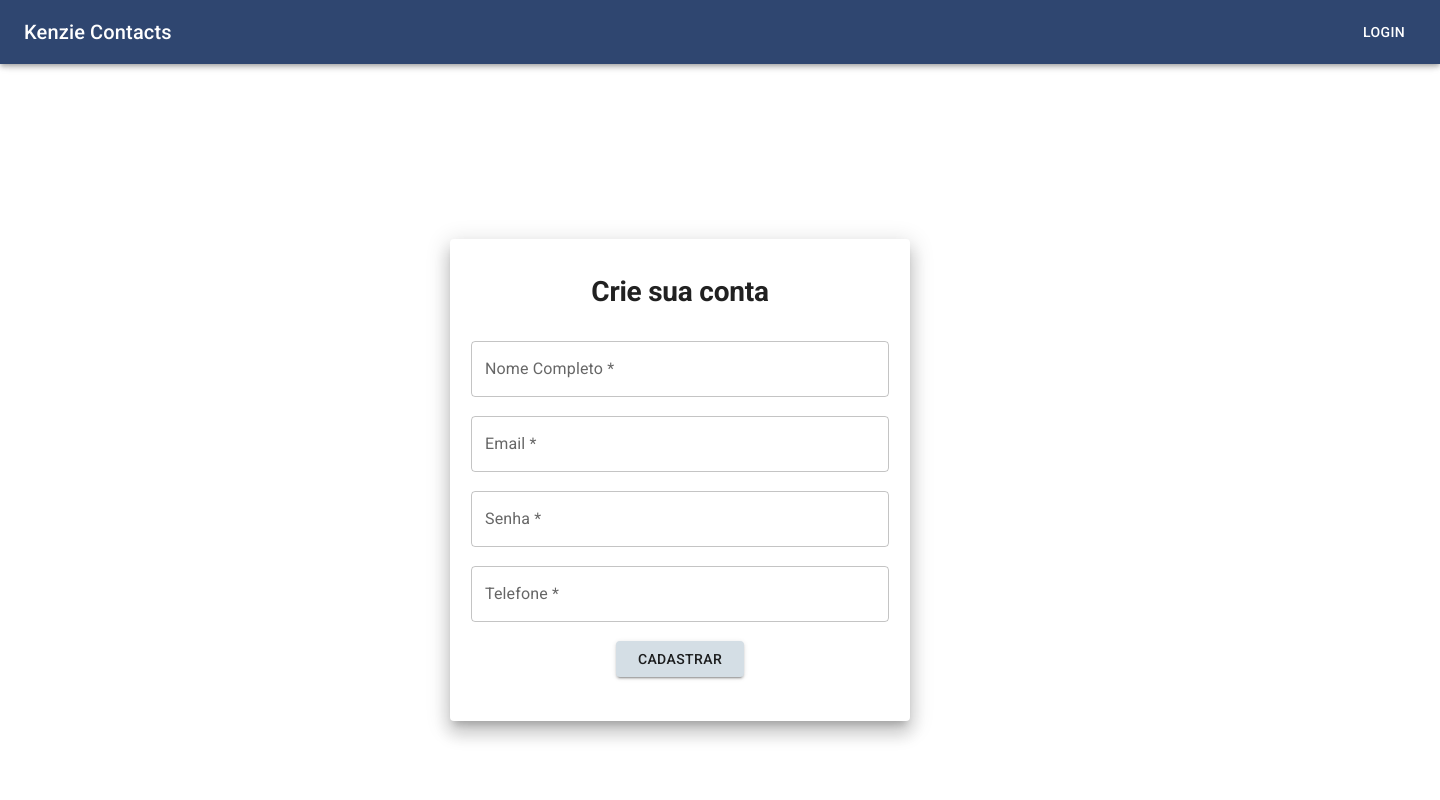
Test case: Client › Tries to register with an invalid email
Type "Teste" into the field with id "name".
click(680, 369); type("Teste")  # box [471,341,889,397]
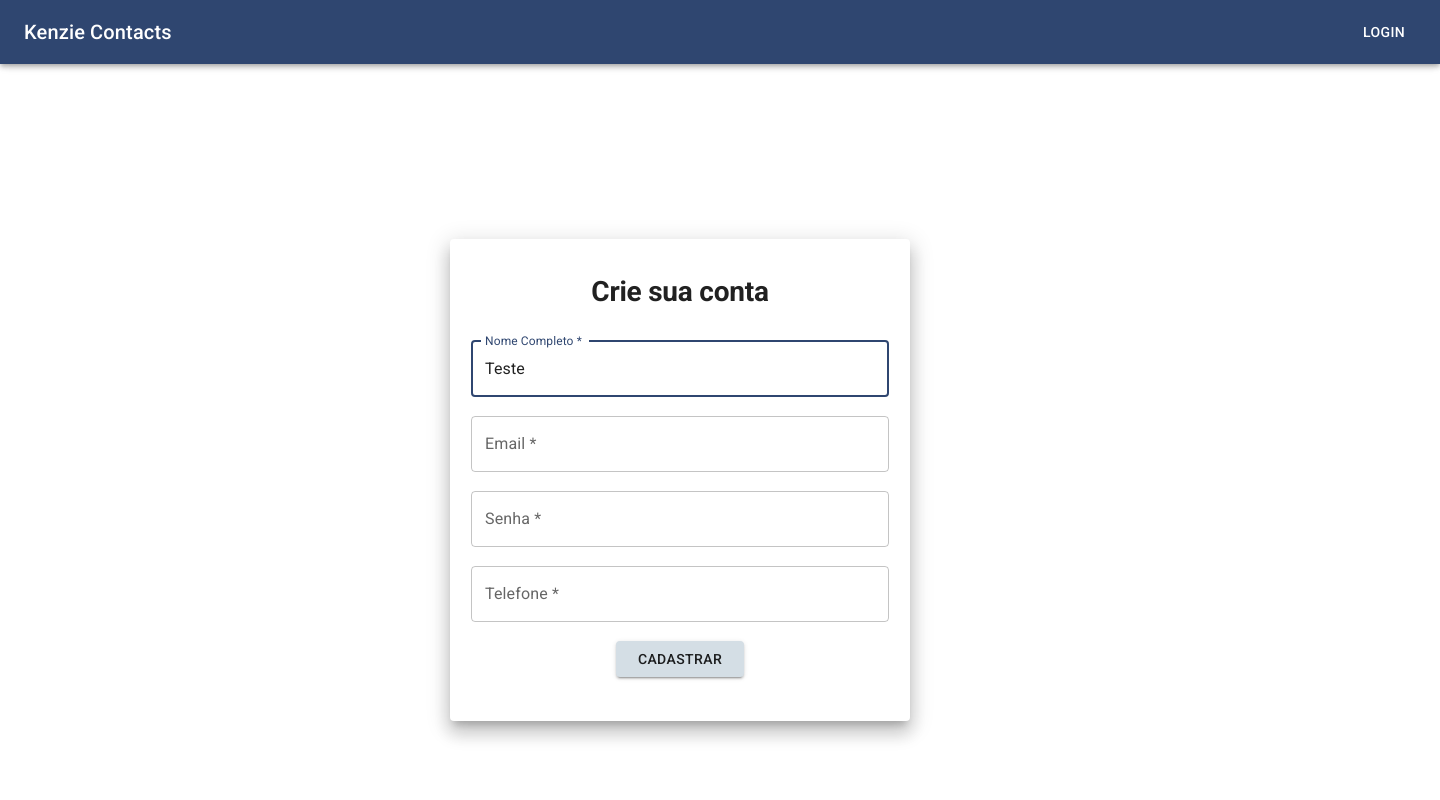
Type "teste" into the field with id "email".
click(680, 444); type("teste")  # box [471,416,889,472]
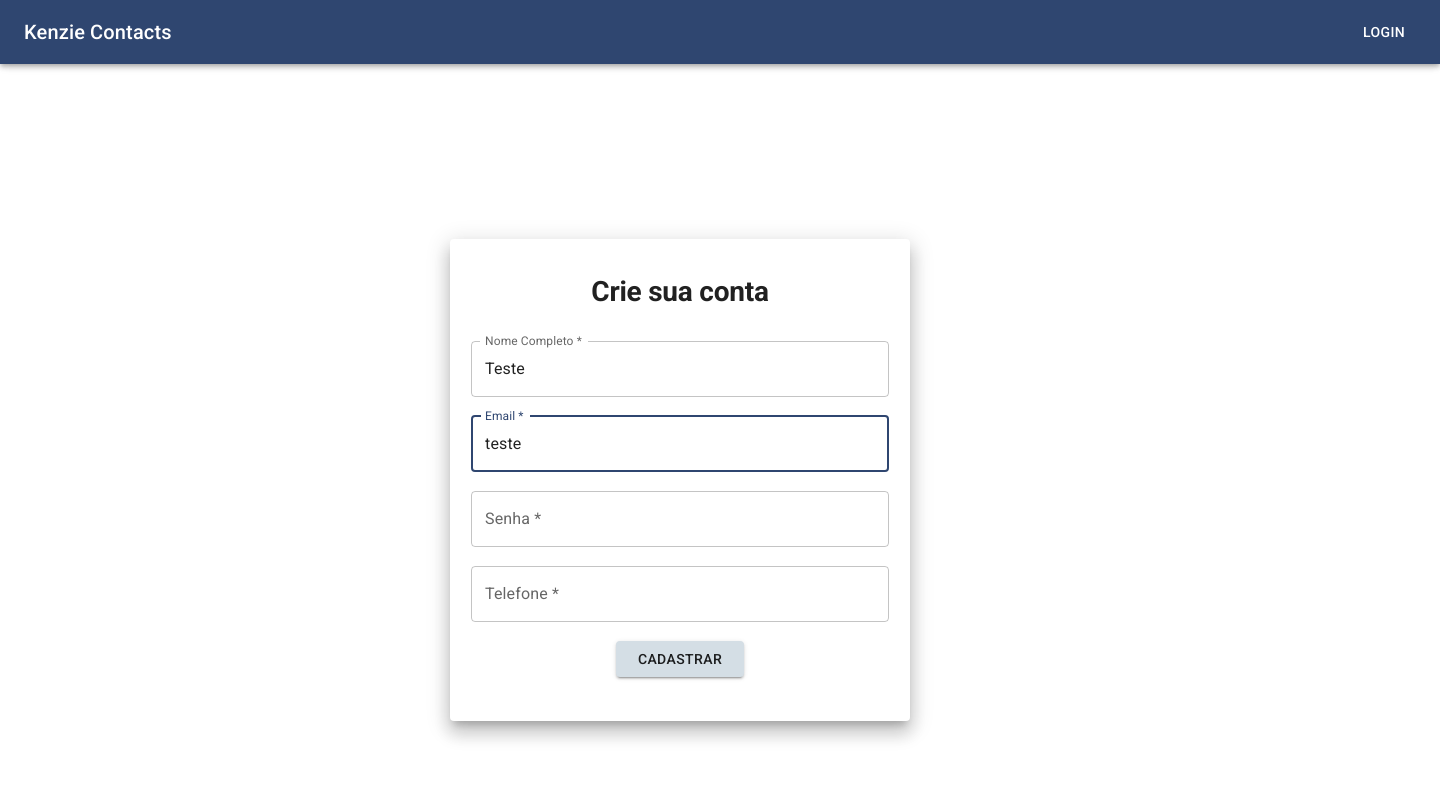
Type "1234" into the password field labelled "Senha *".
click(680, 519); type("1234")  # box [471,491,889,547]
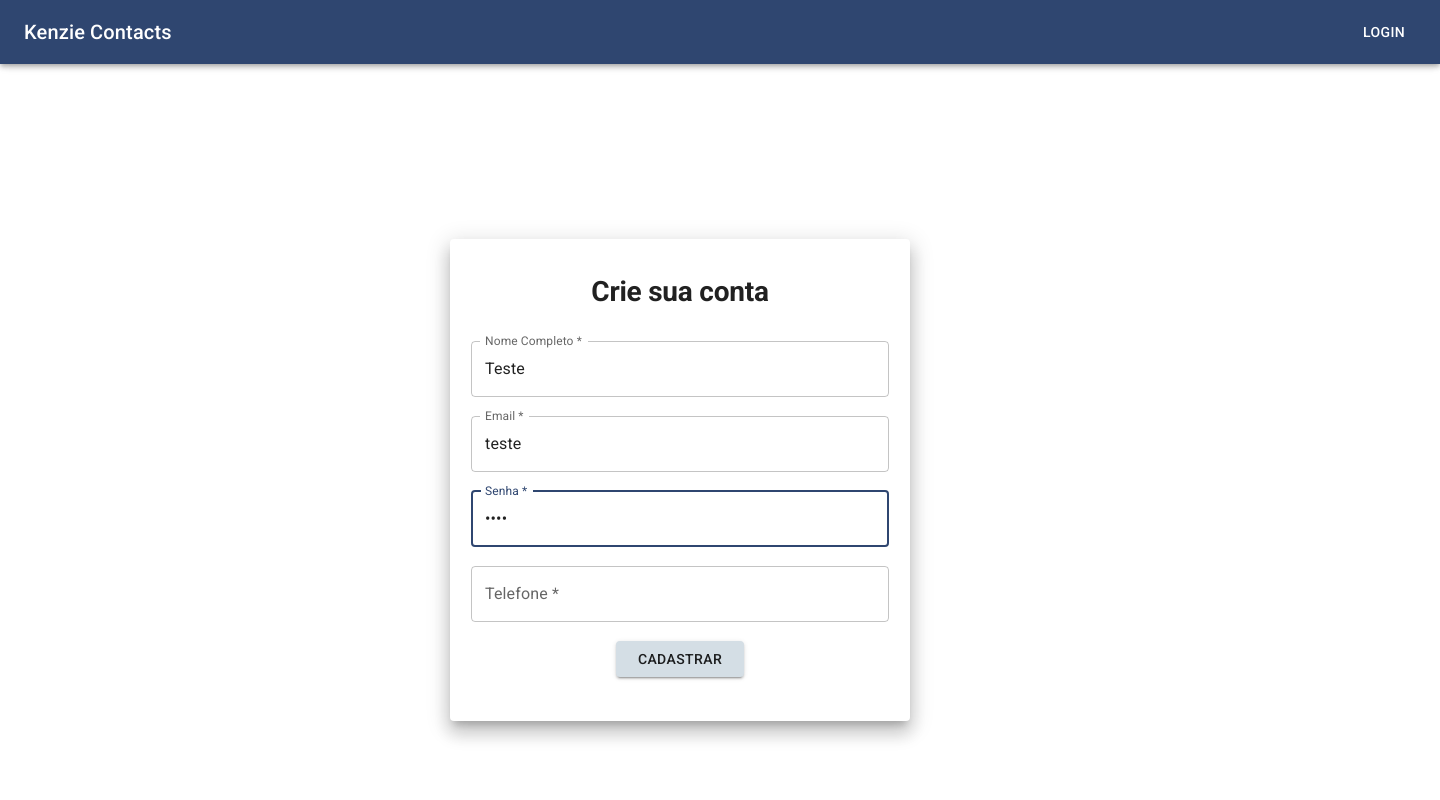
Type "(00) 1111-1111" into the field labelled "Telefone *".
click(680, 594); type("(00) 1111-1111")  # box [471,566,889,622]
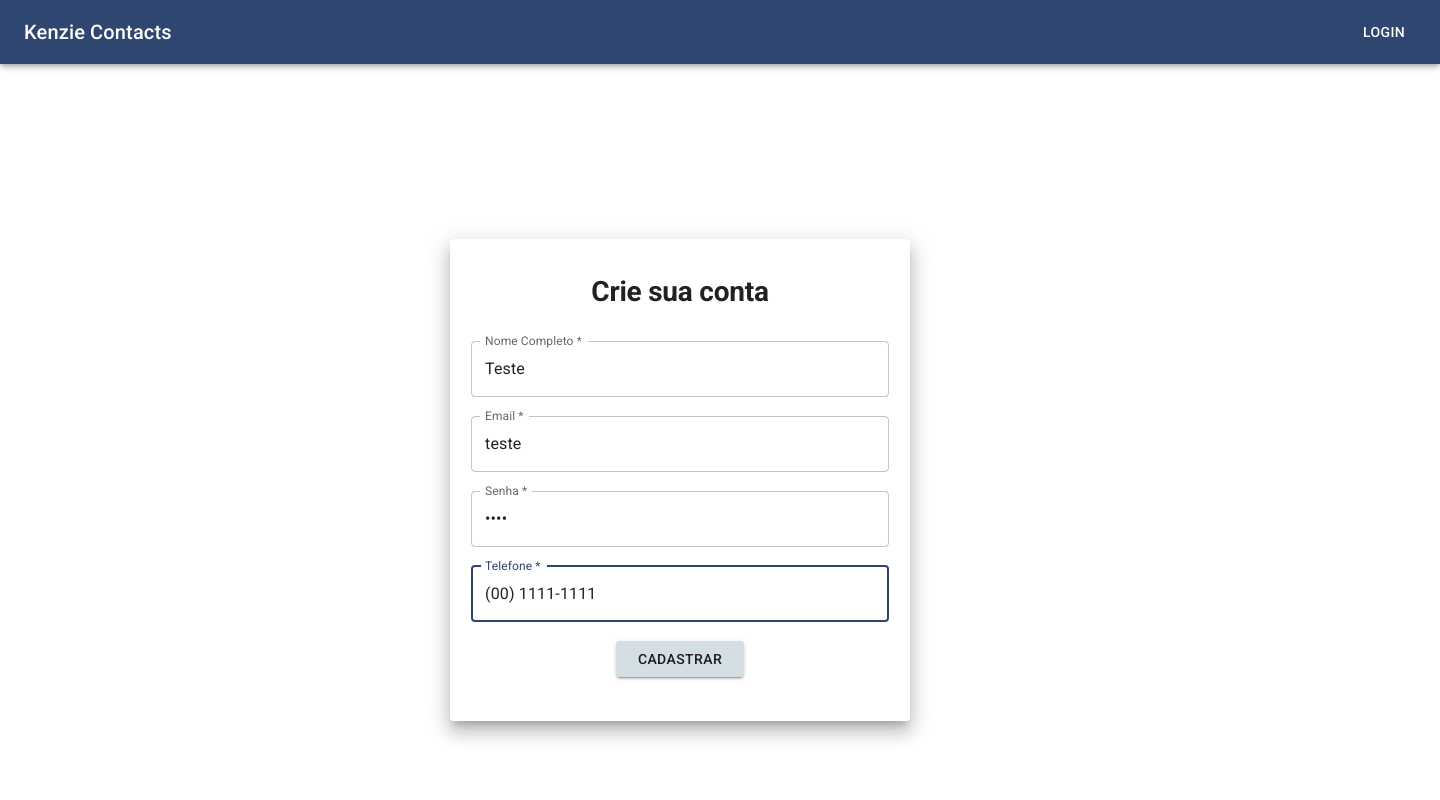
Click the button "Cadastrar".
click(681, 660)  # box [616,641,745,678]
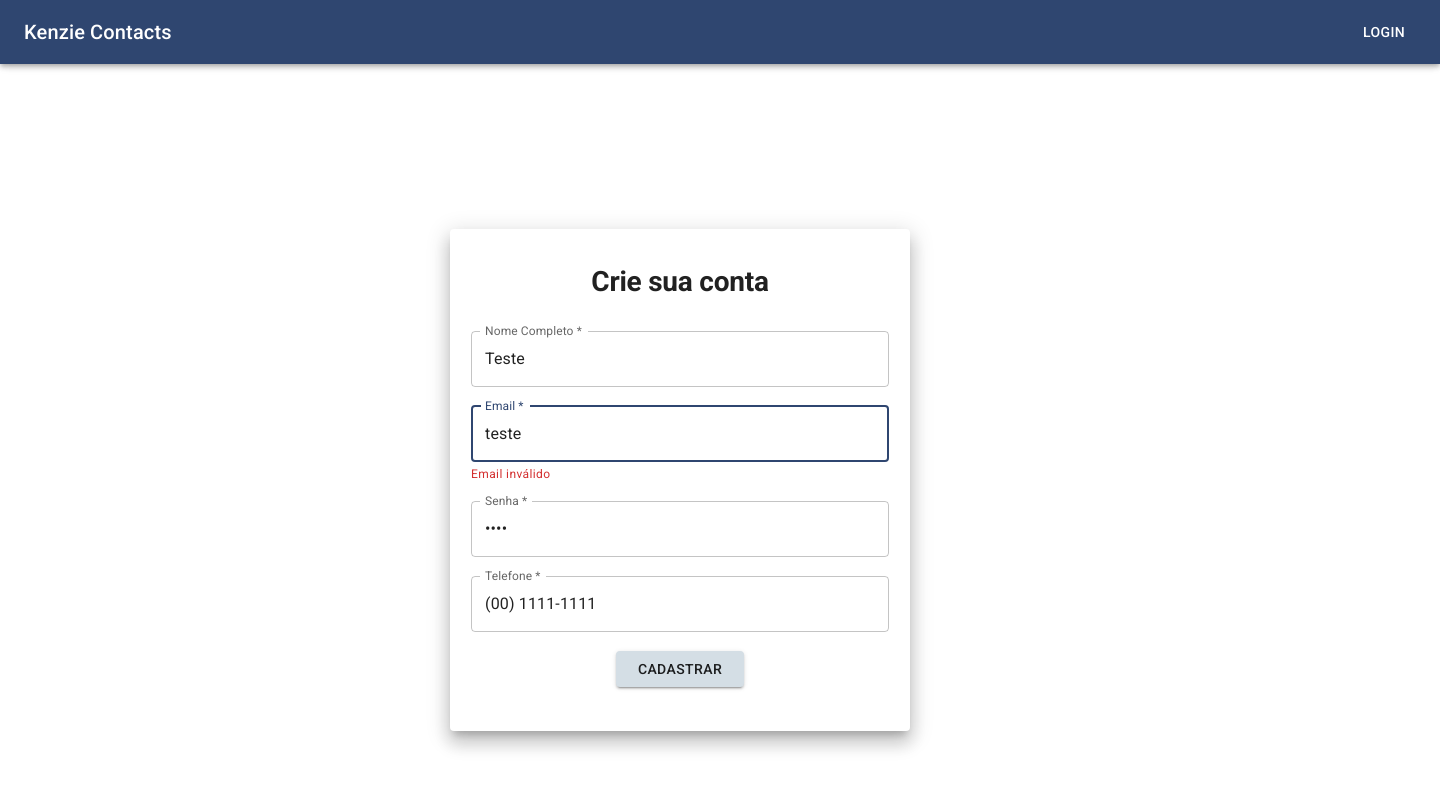
Check: the text "Email inválido" is shown, box [471,467,550,481]
